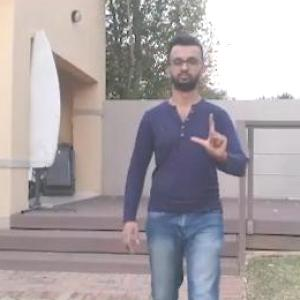land_hand: (182, 101, 232, 164)
